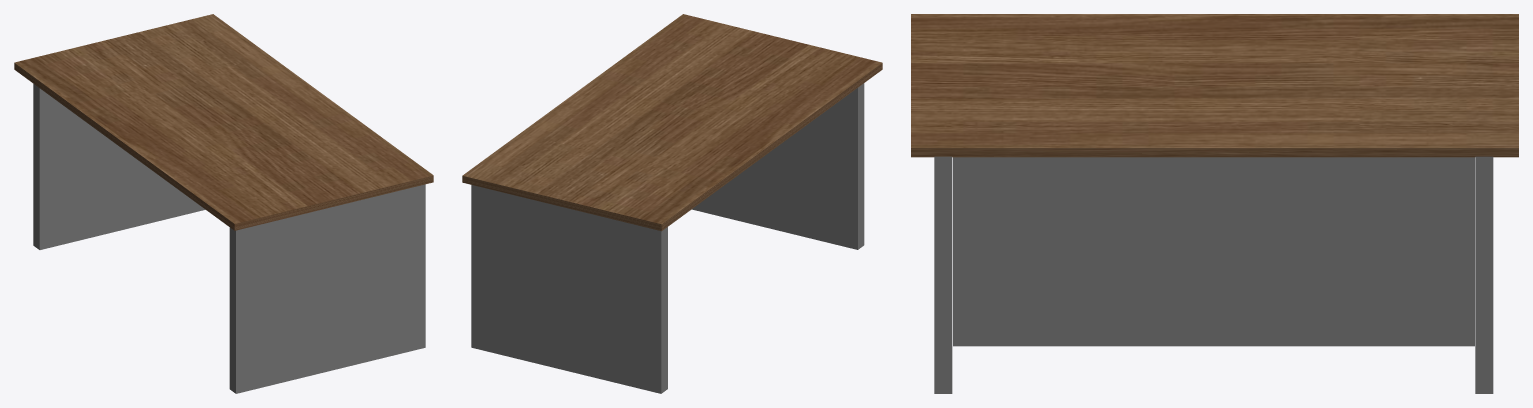
The model's file is DESKTOP.obj.
The picture shows the model from 3 angles, left to right: view 1: azimuth 30°, elevation 25°; view 2: azimuth 150°, elevation 25°; view 3: azimuth 270°, elevation 25°; orthographic projection. The views are drawn at different scales.
Visible parts, largest first — view 1: Cube; view 2: Cube; view 3: Cube.
Boxes of the visible parts, x1,y1,x2,y2 form: Cube: (14,14,433,393); Cube: (462,14,882,393); Cube: (911,14,1518,393).
Bounding box in the file's own units: 2 × 1.71 × 3.84.
2 materials, 1 textured.
